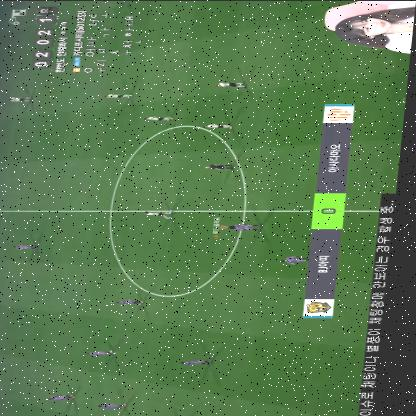streamer: (334, 0, 416, 55)
